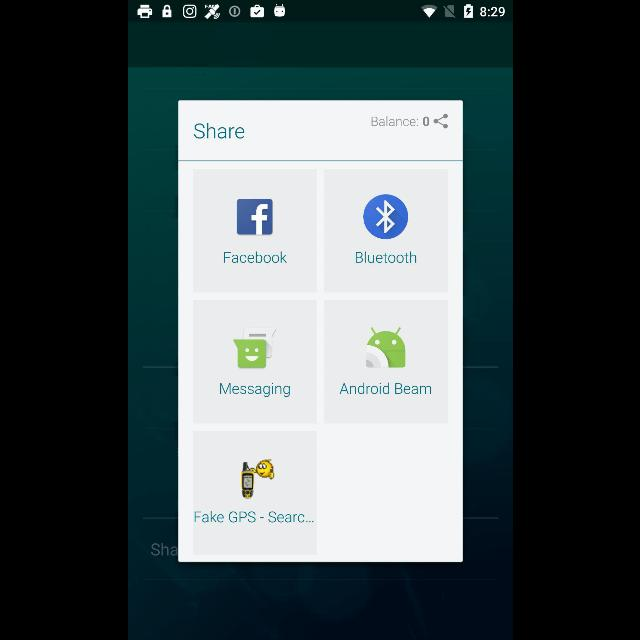icon: (362, 194, 408, 240), (236, 199, 272, 235), (432, 114, 448, 128)
image: (232, 328, 276, 368), (365, 327, 405, 368), (240, 458, 274, 499)
panel: (178, 100, 462, 562)
text: (194, 511, 312, 523), (219, 382, 289, 398), (339, 382, 431, 394), (194, 122, 244, 140), (354, 250, 416, 264), (223, 252, 287, 264), (370, 116, 418, 128), (422, 116, 428, 126)
uppertaskbar: (128, 1, 512, 23)
